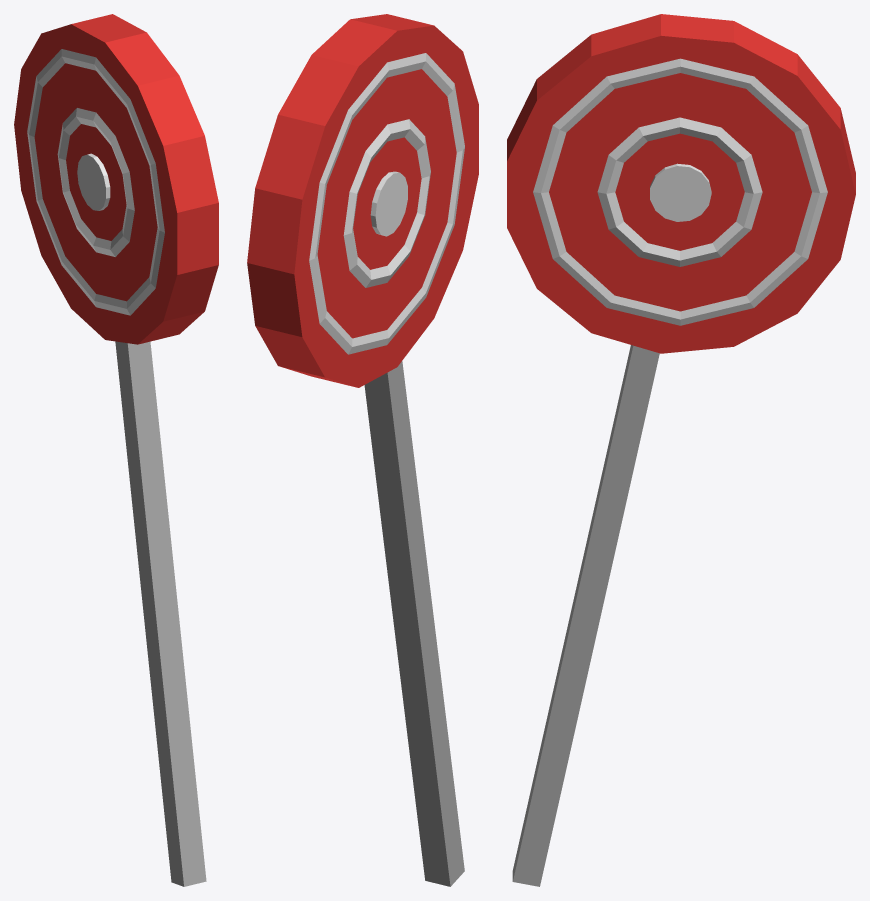
File: candy.fbx
3 views of the same model, side by side, from view 1: azimuth 30°, elevation 25°; view 2: azimuth 150°, elevation 25°; view 3: azimuth 270°, elevation 25° (orthographic). The views are drawn at different scales.
Visible parts, largest first — view 1: Cylinder, Cube, Torus.001, Torus, Cylinder.001; view 2: Cylinder, Cube, Torus.001, Torus, Cylinder.001; view 3: Cylinder, Cube, Torus.001, Torus, Cylinder.001.
Part boxes in pixels (box(x1,y1,x2,y2)): Cylinder: box(14, 14, 218, 344); Cube: box(115, 341, 206, 886); Torus.001: box(27, 49, 164, 315); Torus: box(57, 108, 134, 256); Cylinder.001: box(77, 153, 110, 210); Cylinder: box(247, 14, 478, 387); Cube: box(364, 361, 464, 886); Torus.001: box(309, 53, 464, 354); Torus: box(343, 119, 430, 287); Cylinder.001: box(370, 171, 407, 236); Cylinder: box(507, 14, 855, 353); Cube: box(512, 345, 659, 886); Torus.001: box(533, 58, 827, 325); Torus: box(597, 117, 762, 266); Cylinder.001: box(650, 163, 711, 221).
Bounding box in the file's own units: 19.3 × 293 × 108.
